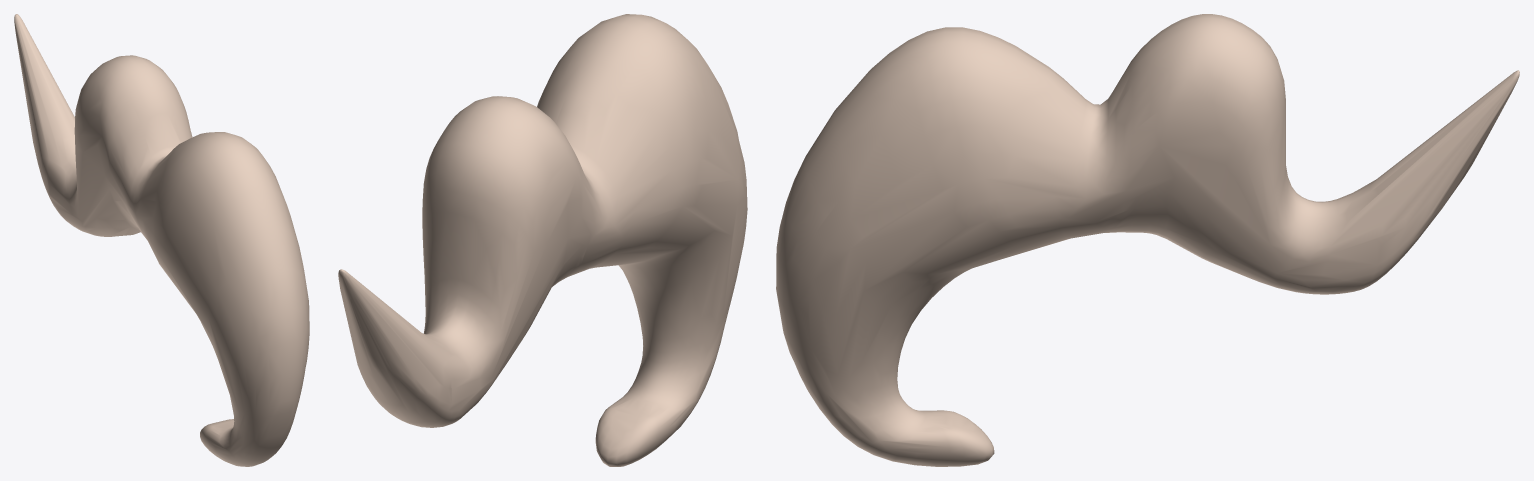
The model's file is Mane_11.fbx.
3 views of the same model, side by side, from view 1: azimuth 30°, elevation 25°; view 2: azimuth 150°, elevation 25°; view 3: azimuth 270°, elevation 25° (orthographic). The views are drawn at different scales.
Visible parts, largest first — view 1: Mane_11; view 2: Mane_11; view 3: Mane_11.
Boxes of the visible parts, <box> form: Mane_11: <box>14,14,309,466</box>; Mane_11: <box>338,14,747,466</box>; Mane_11: <box>776,14,1519,466</box>.
Bounding box in the file's own units: 36.86 × 106 × 160.
